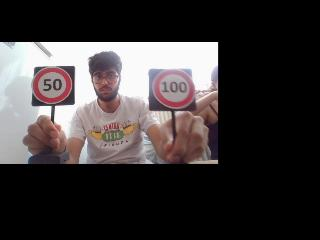Speedlimit_100: (148, 69, 196, 111)
Speedlimit_50: (32, 66, 72, 104)
